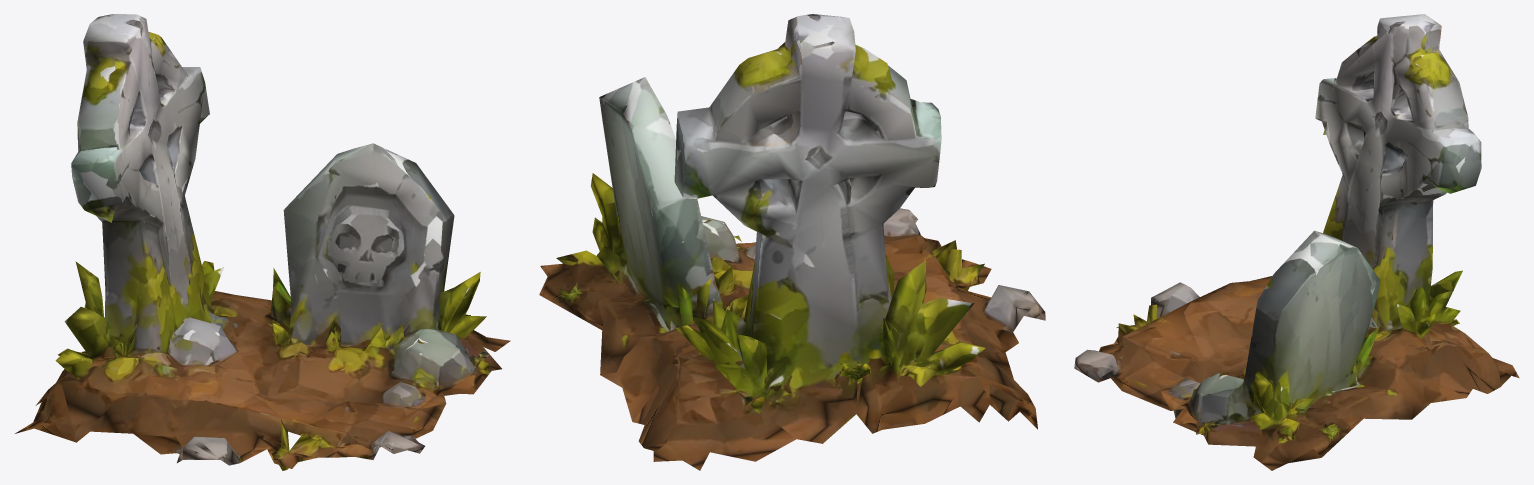
Rendered from dec_gravestone.glb.
The picture shows the model from 3 angles, left to right: view 1: azimuth 30°, elevation 25°; view 2: azimuth 150°, elevation 25°; view 3: azimuth 270°, elevation 25°; orthographic projection. The views are drawn at different scales.
Parts seen in each view (by area): view 1: BakeLow; view 2: BakeLow; view 3: BakeLow.
Boxes of the visible parts, <box> form: BakeLow: <box>15,14,510,470</box>; BakeLow: <box>539,14,1045,470</box>; BakeLow: <box>1074,14,1519,470</box>.
Bounding box in the file's own units: 0.9054 × 0.6702 × 0.8276.
Materials: 1 (1 with a texture image).
